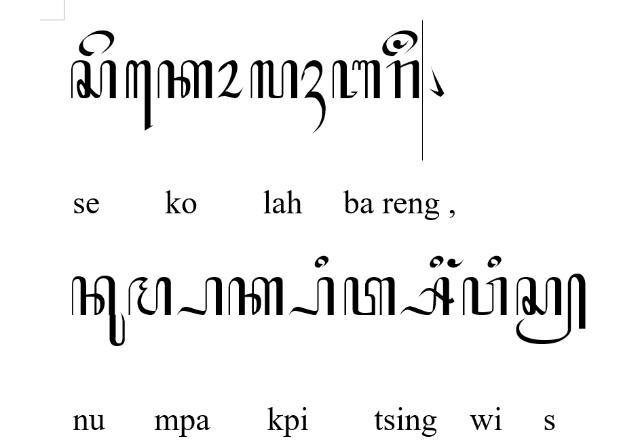-s: (515, 272, 587, 346)
_h1: (302, 59, 326, 133)
_p: (288, 276, 336, 318), (175, 277, 222, 317)
_s: (399, 276, 455, 316)
b: (331, 60, 381, 100)
e: (78, 29, 114, 57)
e1: (125, 60, 153, 132)
eng: (380, 29, 418, 57)
i: (314, 254, 330, 270), (430, 255, 444, 269), (486, 256, 502, 268)
k: (228, 276, 284, 316), (158, 60, 212, 100)
kom: (428, 66, 444, 98)
l: (250, 58, 298, 100)
m: (128, 276, 172, 316)
ng: (447, 258, 465, 268)
nu: (70, 276, 126, 348)
o: (214, 59, 244, 99)
r: (385, 58, 419, 100)
s: (69, 60, 117, 98)
t: (344, 276, 396, 318)
w: (462, 276, 508, 318)
